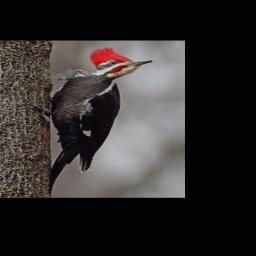Woodpecker: (23, 48, 152, 196)
